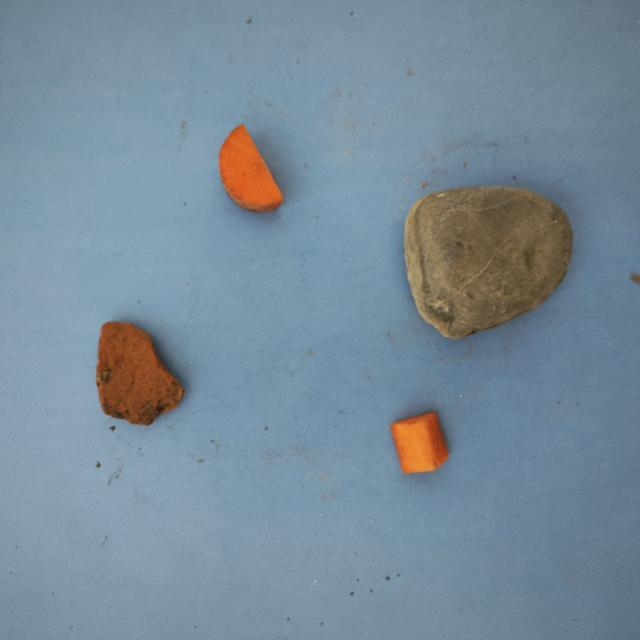-Kitchen waste - carrot-: (218, 122, 284, 212), (390, 411, 449, 477)
-Other waste - brick-: (96, 319, 183, 426)
-Other waste - pebble-: (403, 184, 571, 342)
